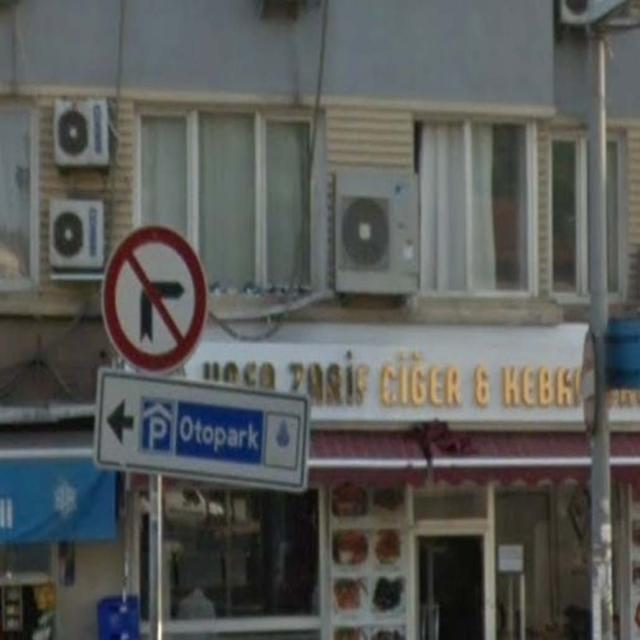sagadonulmez: (100, 227, 208, 373)
